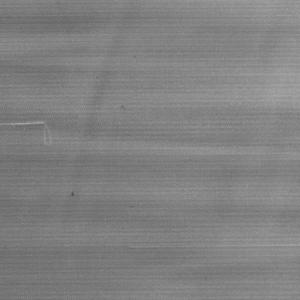Wrinkle: (45, 7, 145, 267)
